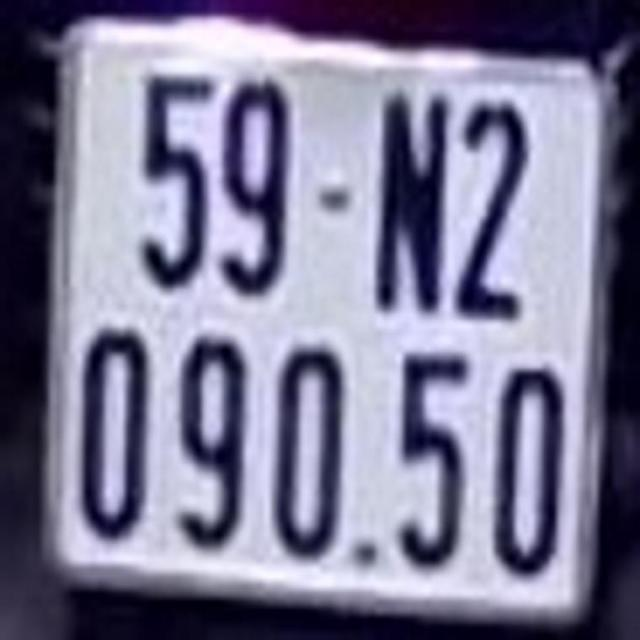0: (82, 324, 164, 554), (500, 358, 560, 572), (280, 337, 337, 560)
2: (460, 101, 520, 316)
5: (121, 81, 216, 290), (394, 350, 471, 570)
9: (171, 318, 241, 546), (218, 85, 285, 296)
N: (378, 100, 446, 316)
